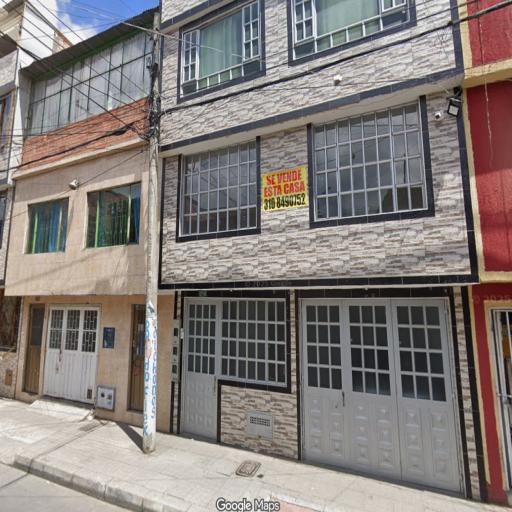Casa: (147, 0, 491, 512), (3, 3, 177, 433)
postes: (141, 23, 166, 460)
